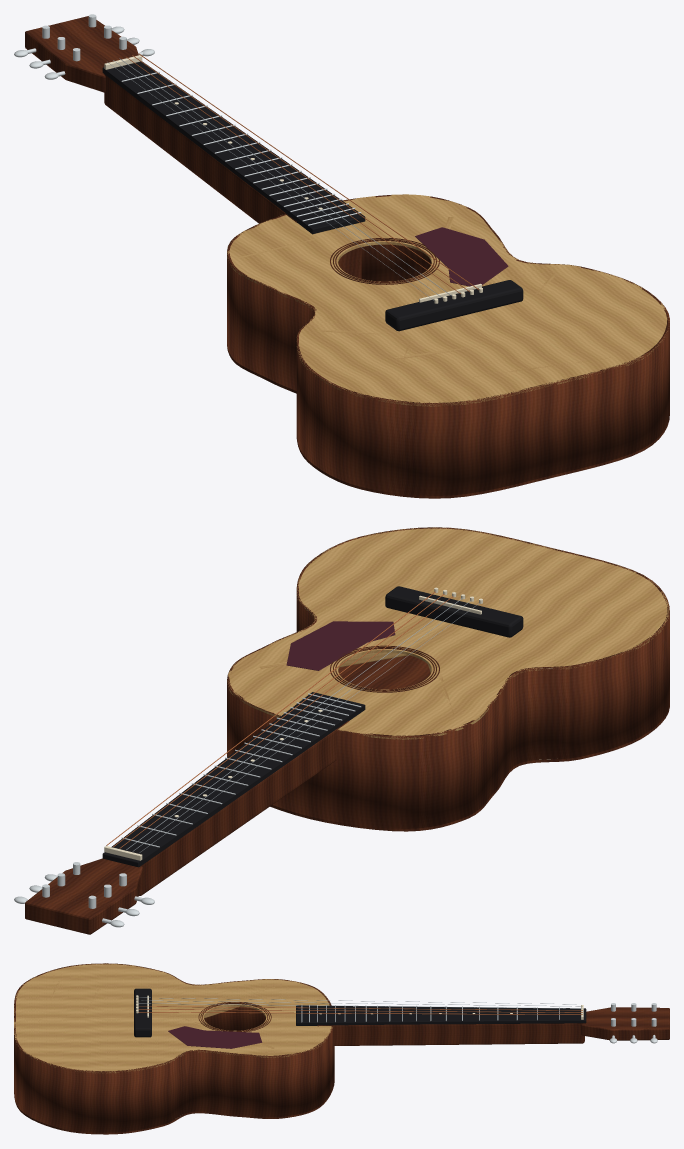
The model's file is 03_Acoustic_Guitar.glb.
3 views of the same model, one above another, from view 1: azimuth 30°, elevation 25°; view 2: azimuth 150°, elevation 25°; view 3: azimuth 270°, elevation 25° (orthographic). The views are drawn at different scales.
Visible parts, largest first — view 1: 01_soundbox_and_sound_hole, 02_neck_headstock_and_hardware, 03_six_strings_and_bridge_pins, 04_X_braces_and_tone_bars; view 2: 01_soundbox_and_sound_hole, 02_neck_headstock_and_hardware, 03_six_strings_and_bridge_pins, 04_X_braces_and_tone_bars; view 3: 01_soundbox_and_sound_hole, 02_neck_headstock_and_hardware, 03_six_strings_and_bridge_pins, 04_X_braces_and_tone_bars.
Boxes of the visible parts, x1=… form: 01_soundbox_and_sound_hole: x1=227, y1=194, x2=669, y2=498; 02_neck_headstock_and_hardware: x1=14, y1=14, x2=523, y2=331; 03_six_strings_and_bridge_pins: x1=107, y1=53, x2=482, y2=303; 04_X_braces_and_tone_bars: x1=239, y1=217, x2=648, y2=391; 01_soundbox_and_sound_hole: x1=227, y1=527, x2=669, y2=831; 02_neck_headstock_and_hardware: x1=14, y1=586, x2=523, y2=934; 03_six_strings_and_bridge_pins: x1=106, y1=587, x2=482, y2=852; 04_X_braces_and_tone_bars: x1=259, y1=540, x2=629, y2=714; 01_soundbox_and_sound_hole: x1=14, y1=963, x2=334, y2=1134; 02_neck_headstock_and_hardware: x1=134, y1=988, x2=669, y2=1045; 03_six_strings_and_bridge_pins: x1=136, y1=995, x2=582, y2=1014; 04_X_braces_and_tone_bars: x1=39, y1=981, x2=288, y2=1048.
Size of the model in its own units: 0.4037 by 0.134 by 1.03.
Materials: 9 (3 with a texture image).
